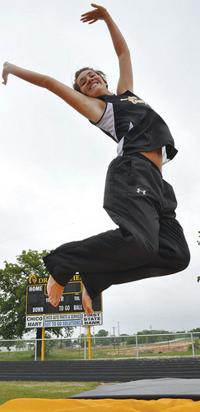person: (3, 6, 193, 319)
